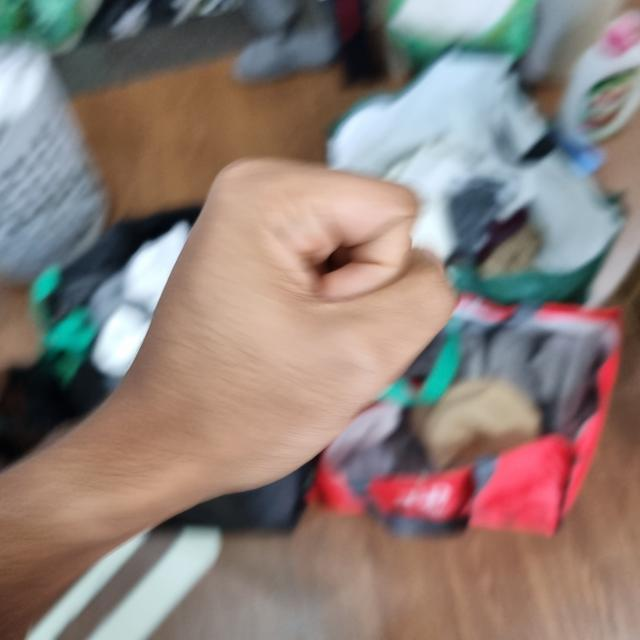Rock: (116, 155, 451, 498)
